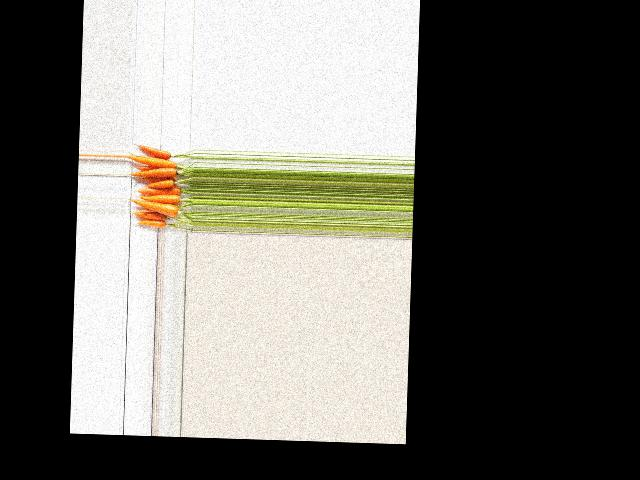carrot: (134, 216, 168, 230)
